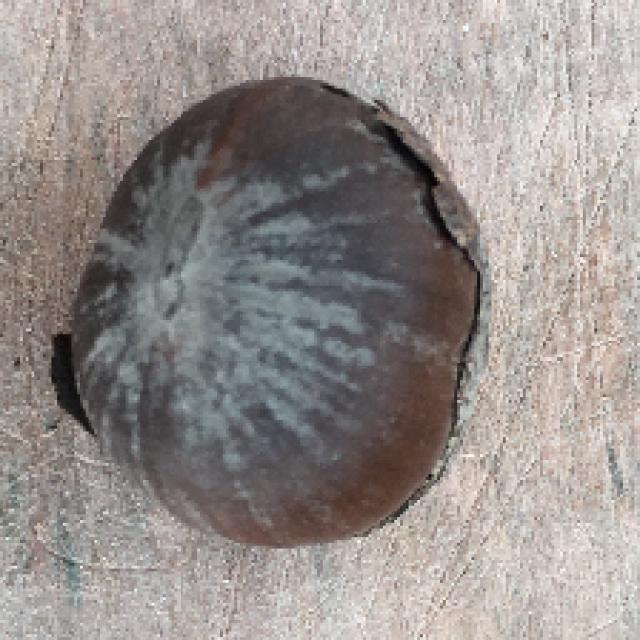damagedHazelnut: (56, 72, 497, 558)
